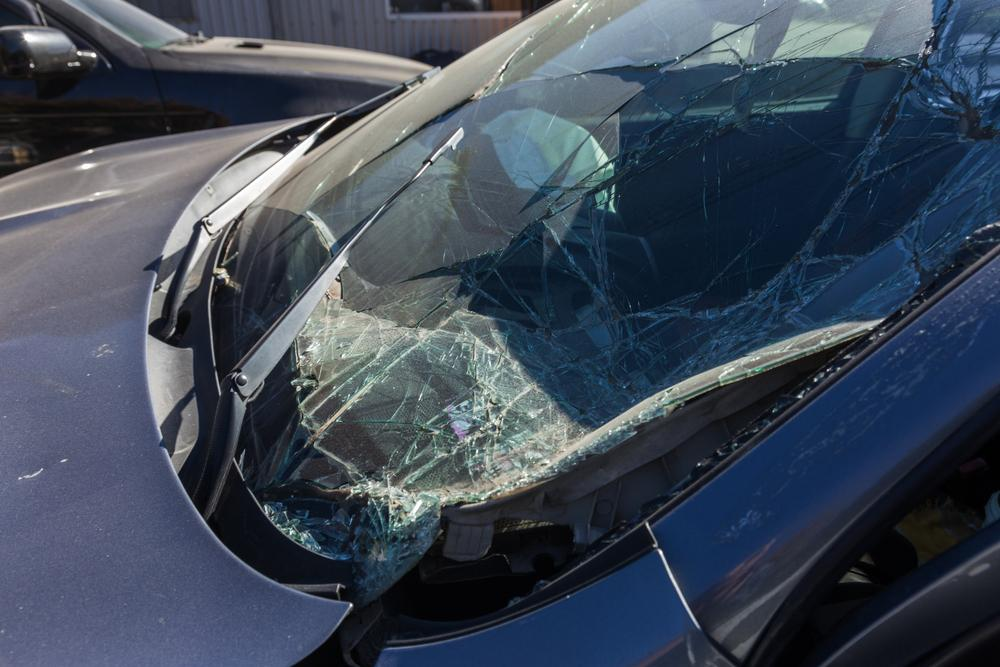glass shatter: (240, 0, 1000, 614)
